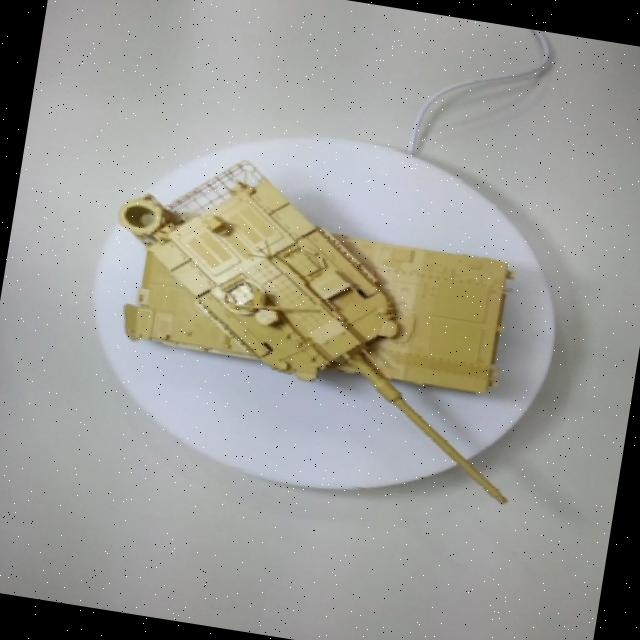korea tank: (51, 107, 634, 530)
